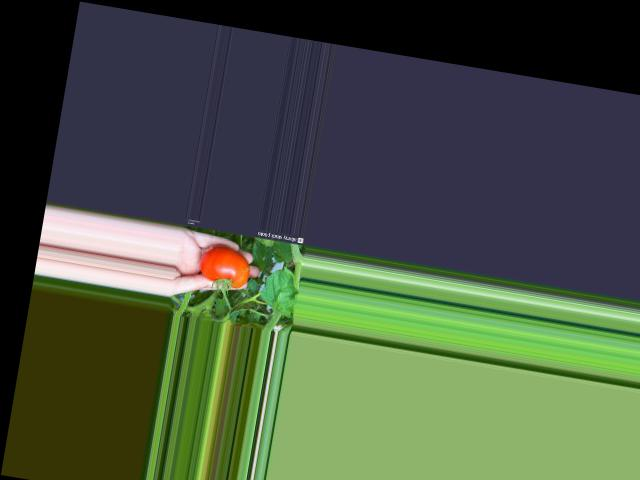tomato: (196, 242, 252, 289)
